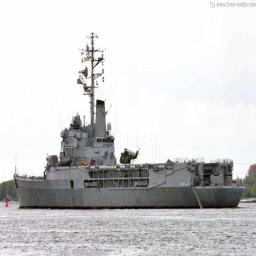Portanaves: (13, 35, 249, 210)
